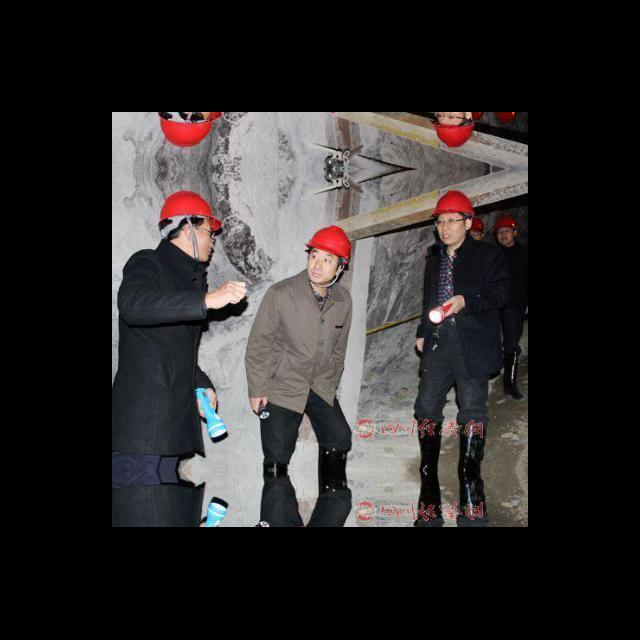Hardhat: (159, 193, 223, 230), (157, 115, 214, 148), (306, 223, 351, 262), (433, 190, 476, 219), (432, 122, 475, 147), (494, 214, 518, 232), (470, 220, 485, 233)
NO-Mask: (188, 237, 215, 259), (309, 264, 337, 282), (439, 228, 467, 245), (498, 235, 515, 245)
NO-Safety Vest: (126, 253, 208, 426), (274, 283, 351, 401), (427, 244, 492, 336), (500, 249, 528, 307)
Person: (112, 190, 245, 491), (246, 223, 355, 477), (417, 189, 493, 489), (489, 211, 528, 395), (431, 112, 483, 149), (469, 218, 487, 245)
